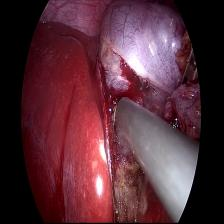Grasper: (175, 49, 203, 99)
Hook: (108, 96, 128, 132)
